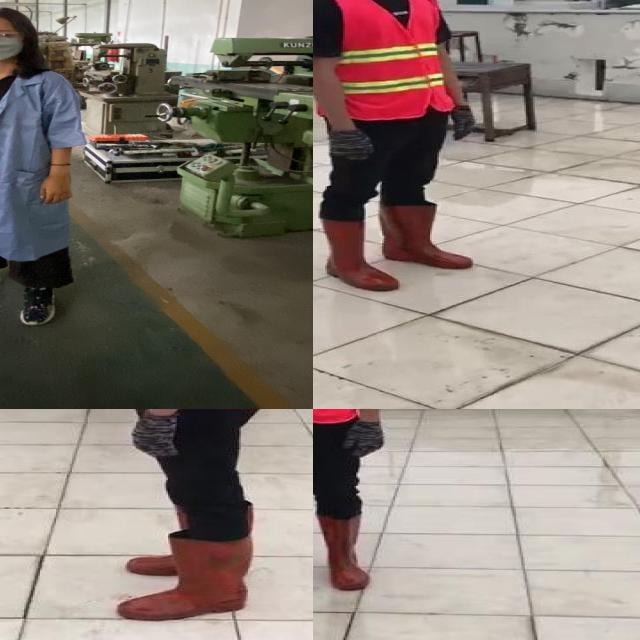boots: (113, 534, 253, 621), (376, 198, 491, 269), (313, 214, 399, 295), (319, 514, 372, 590)
face_mask: (0, 27, 28, 61)
glasses: (0, 28, 29, 44)
hand_glove: (132, 410, 178, 458), (346, 420, 384, 458)
hand_noglove: (30, 173, 76, 209)
head_nohelmet: (0, 3, 35, 28)
person: (313, 0, 494, 297), (88, 409, 291, 640), (0, 4, 97, 331), (313, 409, 399, 595)
shoes: (6, 273, 66, 331)
vest: (313, 0, 453, 122)
